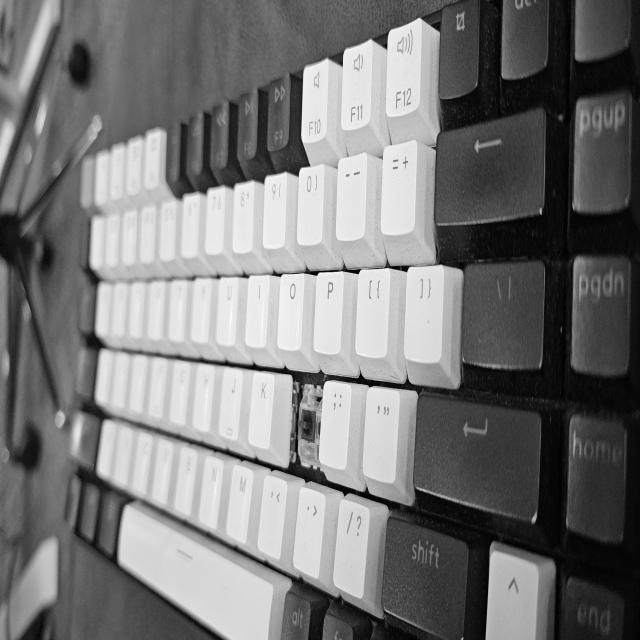C: (293, 384, 320, 453)
